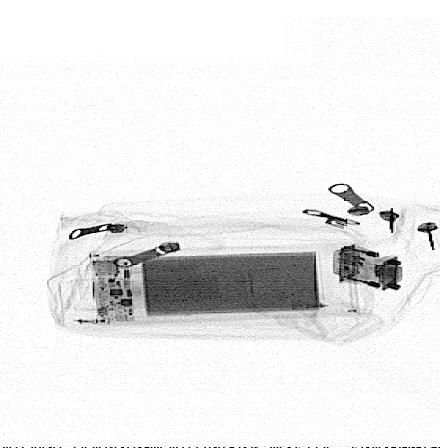Powerbank: (88, 244, 359, 324)
